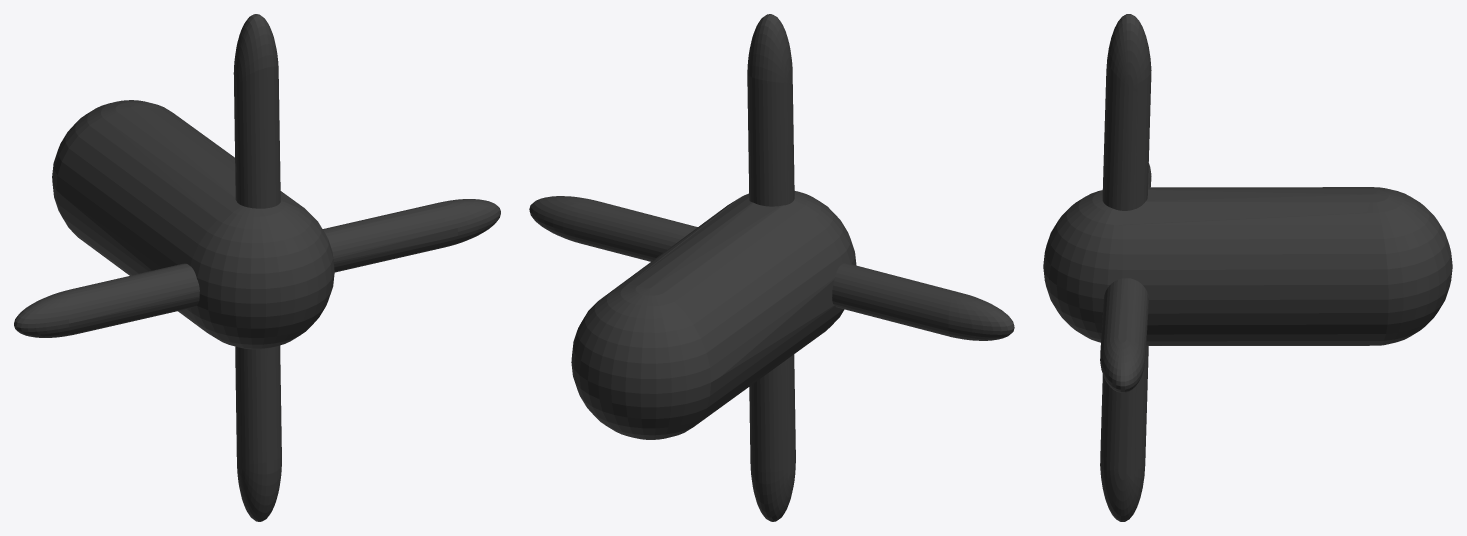
Rendered from VaultGrab.fbx.
3 views of the same model, side by side, from view 1: azimuth 30°, elevation 25°; view 2: azimuth 150°, elevation 25°; view 3: azimuth 270°, elevation 25° (orthographic).
Visible parts, largest first — view 1: Sphere; view 2: Sphere; view 3: Sphere.
Boxes of the visible parts, x1,y1,x2,y2 form: Sphere: (14,14,500,521); Sphere: (529,14,1014,521); Sphere: (1043,14,1452,521).
Size of the model in its own units: 67.57 by 67.57 by 49.49.
1 material, 1 textured.
